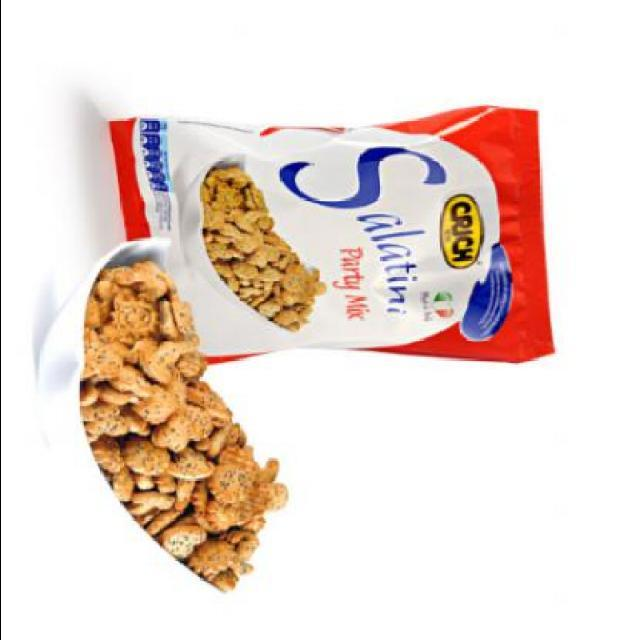Salatini: (78, 102, 560, 372)
Salatini packaged: (53, 262, 290, 606)
